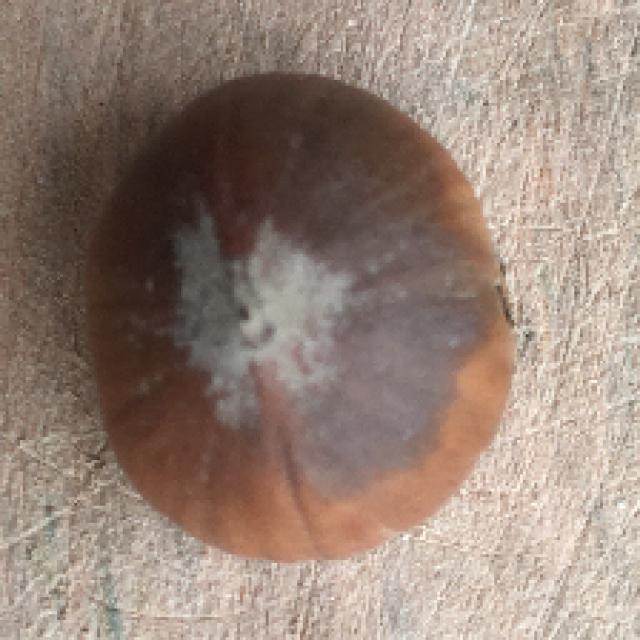damagedHazelnut: (94, 71, 510, 566)
